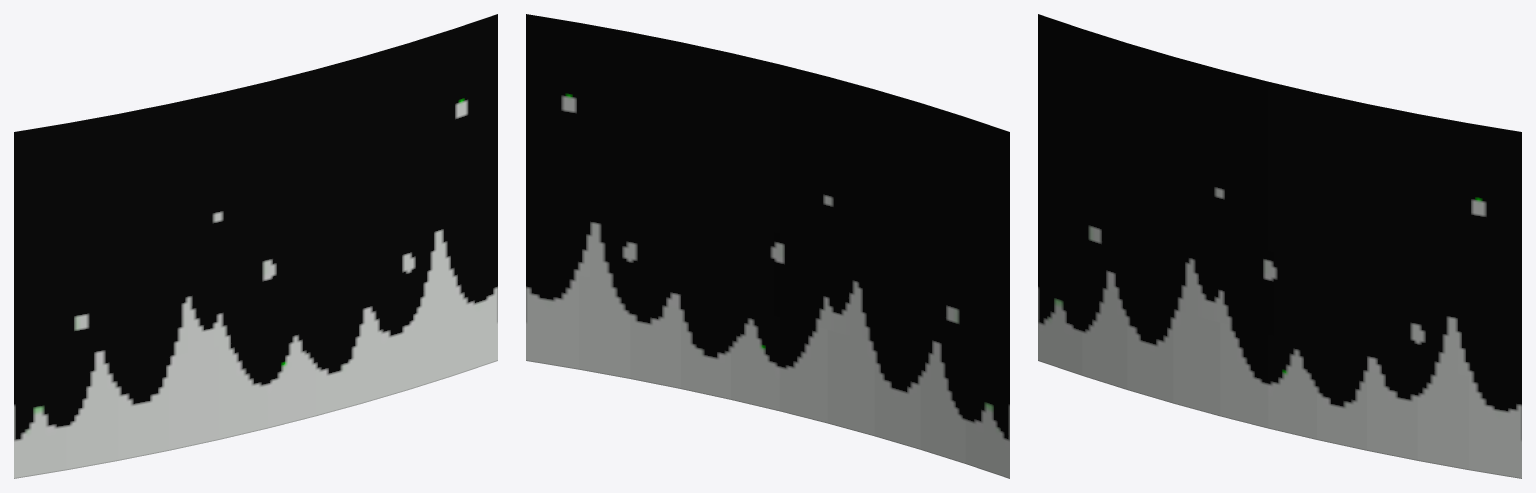
Rendered from guangqiang1.FBX.
3 views of the same model, side by side, from view 1: azimuth 30°, elevation 25°; view 2: azimuth 150°, elevation 25°; view 3: azimuth 330°, elevation 25° (orthographic).
Visible parts, largest first — view 1: Plane001; view 2: Plane001; view 3: Plane001.
Boxes of the visible parts, <box> form: Plane001: <box>14,14,497,478</box>; Plane001: <box>526,14,1009,478</box>; Plane001: <box>1038,14,1521,478</box>.
Bounding box in the file's own units: 3 × 0.1263 × 2.06.
